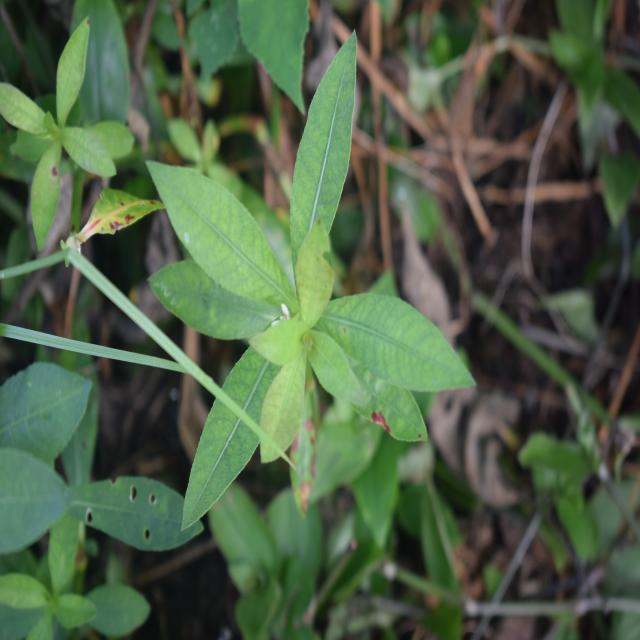Alligatorweed: (126, 62, 447, 480)
